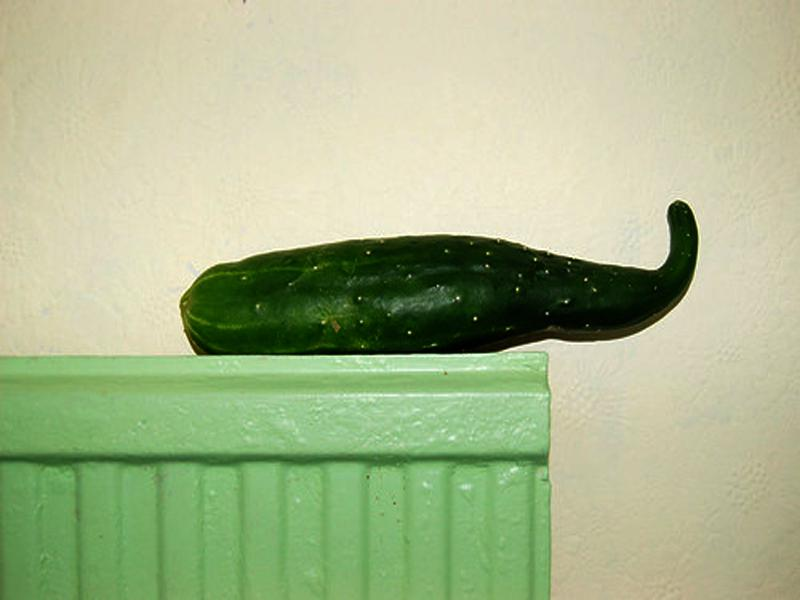Cucumber: (181, 202, 699, 355)
